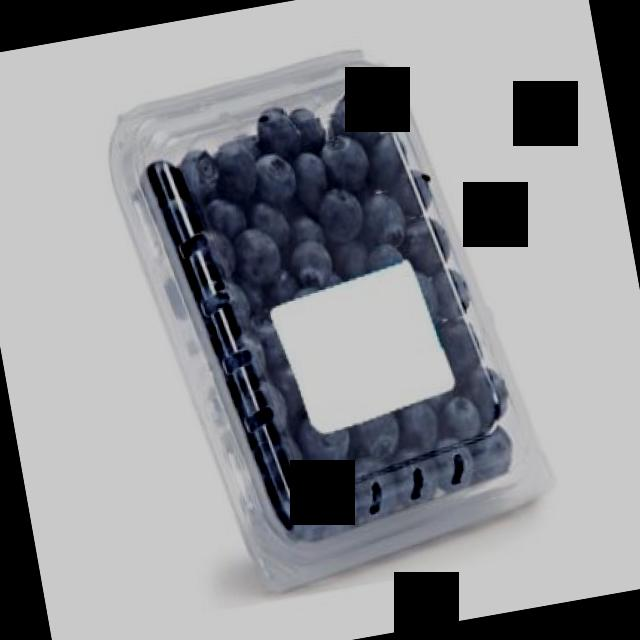blueberry: (106, 49, 559, 596)
